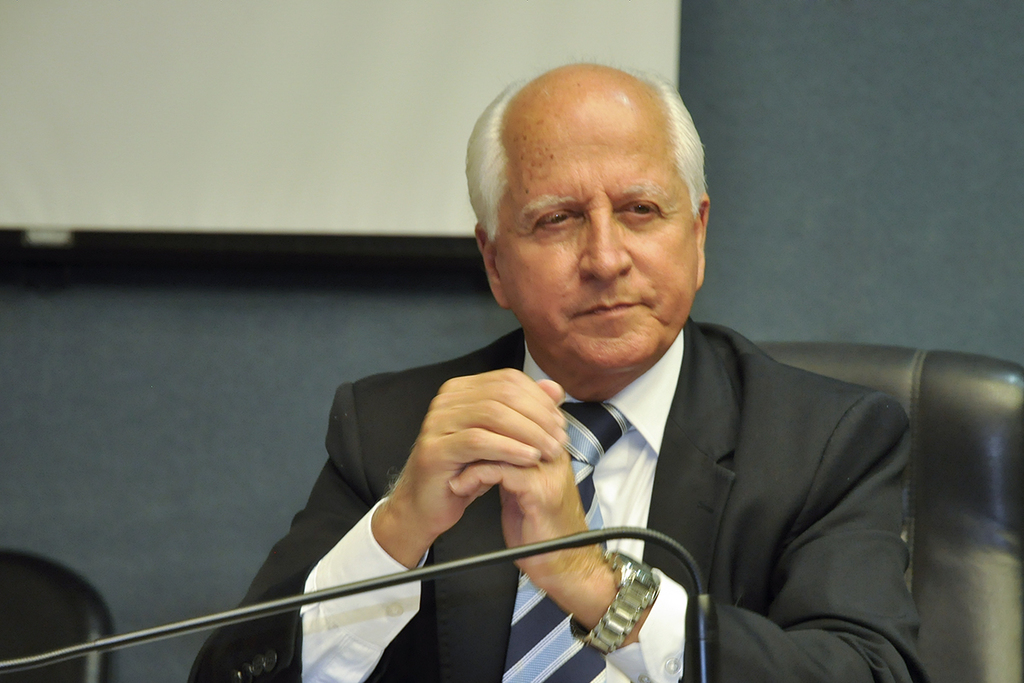Human_hand: (449, 443, 596, 592)
